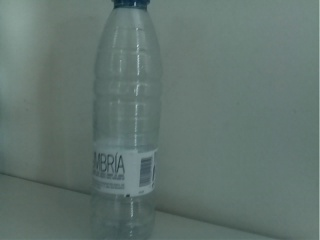botella plastico: (94, 1, 161, 239)
